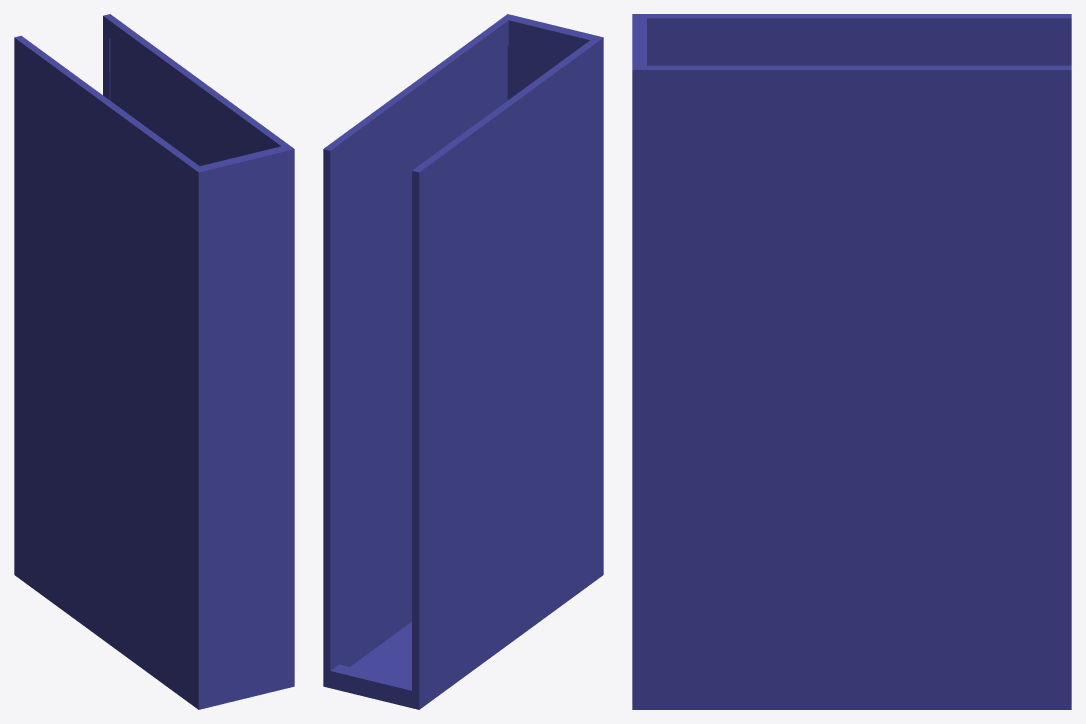
The model's file is book.001_material.011_0_lev1.glb.
The picture shows the model from 3 angles, left to right: view 1: azimuth 30°, elevation 25°; view 2: azimuth 150°, elevation 25°; view 3: azimuth 270°, elevation 25°; orthographic projection. The views are drawn at different scales.
Visible parts, largest first — view 1: book.001_material.011_0_lev1; view 2: book.001_material.011_0_lev1; view 3: book.001_material.011_0_lev1.
Part boxes in pixels (x1,y1,x2,y2): book.001_material.011_0_lev1: (14,14,294,709); book.001_material.011_0_lev1: (323,14,603,709); book.001_material.011_0_lev1: (632,14,1071,709).
Size of the model in its own units: 3.02 by 16.14 by 10.05.
